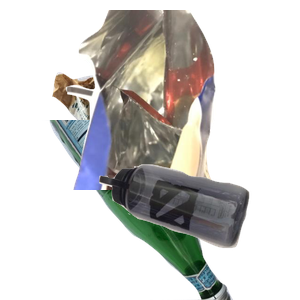cardboard: (50, 62, 228, 226)
glass: (37, 120, 262, 300)
plastic: (97, 162, 300, 300)
trash: (63, 10, 300, 190)
